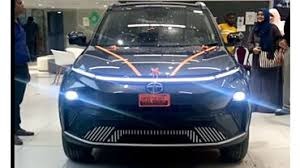Tata Nexon: (53, 2, 252, 164)
